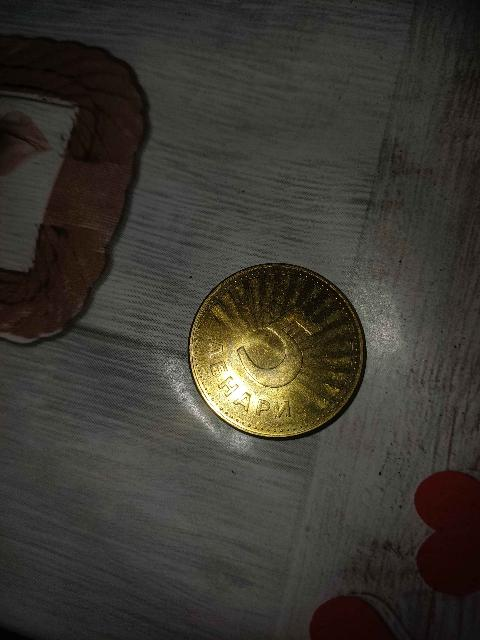coin: (189, 264, 365, 437)
